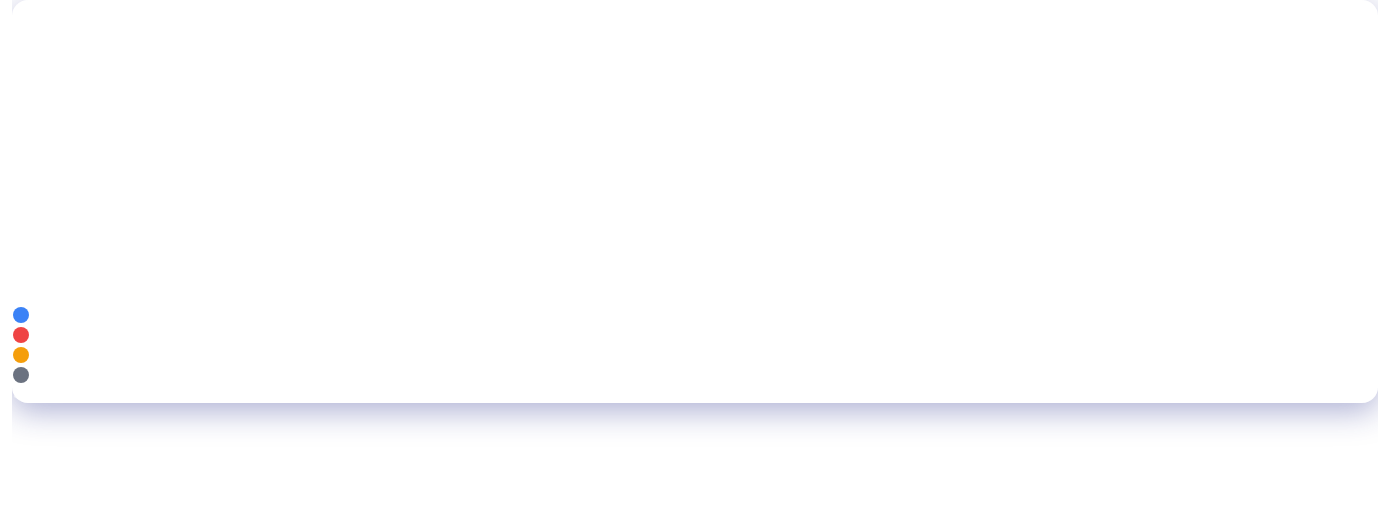
it: SourceAttributionCard › Interactive Features › Legend Interactions › should show detailed breakdown when legend item is clicked
Step 1. Click the element with test id "legend-item-vehicular" → (72, 314), box [13,305,1377,325]
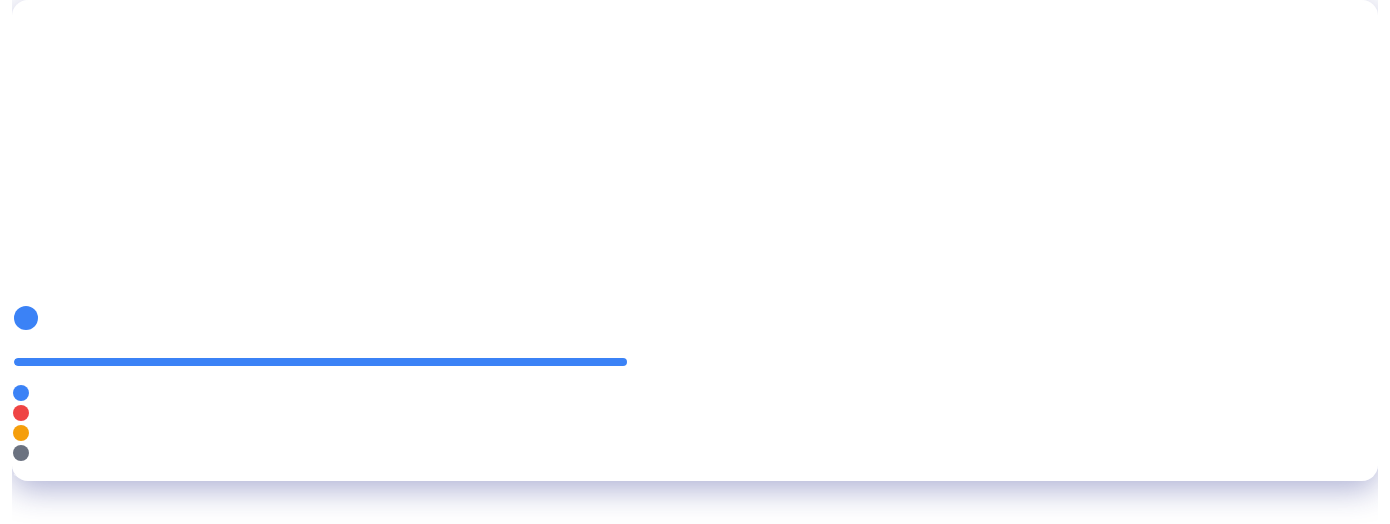
expect the element with test id "selected-segment-details" shows "45%": met, box [13,305,1377,383]
